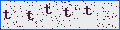t: (84, 6, 92, 16), (63, 8, 71, 17), (44, 5, 52, 14), (26, 11, 34, 20), (3, 10, 11, 19)
